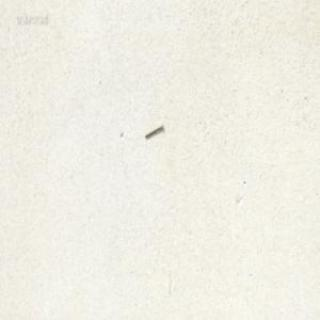Bolttrack_idkeyframe: (142, 122, 162, 137)
